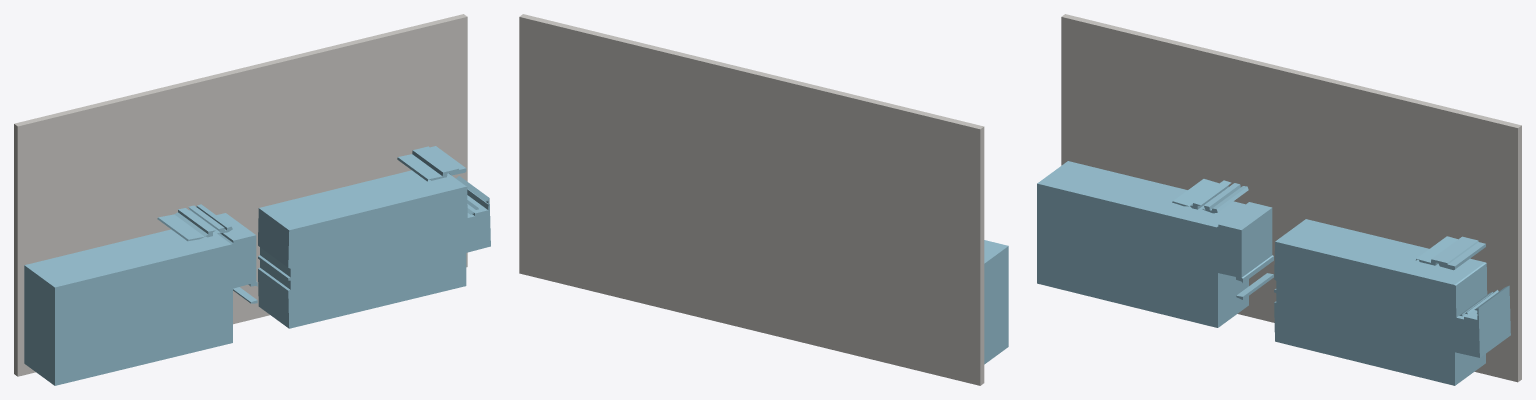
The picture shows the model from 3 angles, left to right: view 1: azimuth 30°, elevation 25°; view 2: azimuth 150°, elevation 25°; view 3: azimuth 330°, elevation 25°; orthographic projection. The views are drawn at different scales.
Visible parts, largest first — view 1: world; view 2: world; view 3: world.
Part boxes in pixels (x1,y1,x2,y2): world: (14, 14, 490, 385); world: (519, 14, 1008, 385); world: (1037, 14, 1521, 385).
Bounding box in the file's own units: 10.23 × 5.44 × 1.35.
